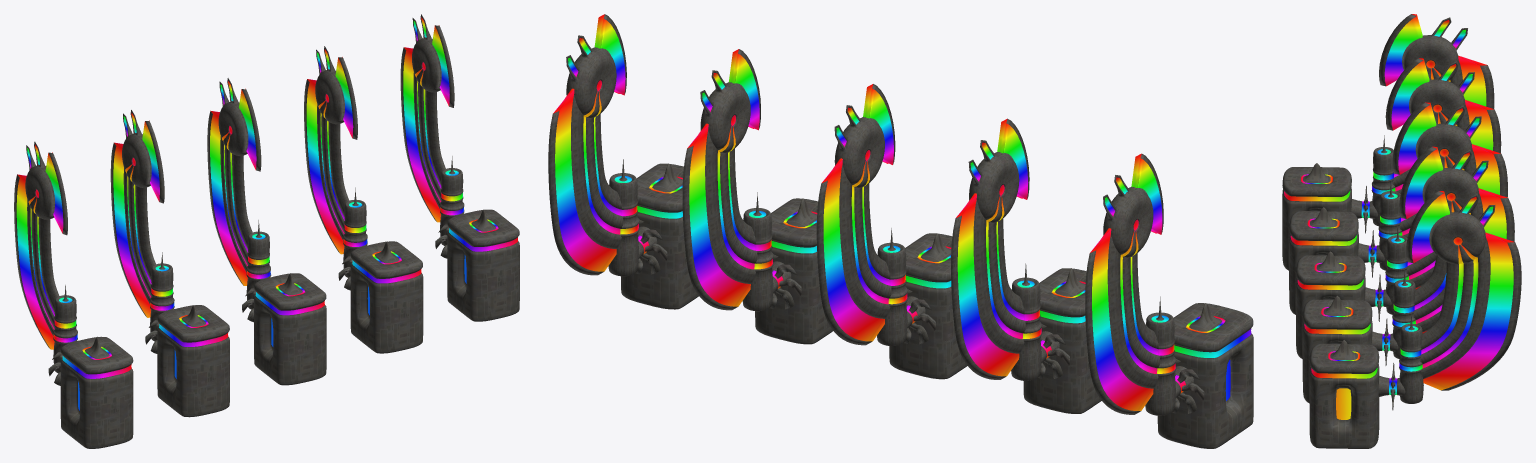
File: xenosands-SolarFins.glb
3 renders of one model, left to right at view 1: azimuth 30°, elevation 25°; view 2: azimuth 150°, elevation 25°; view 3: azimuth 270°, elevation 25°, orthographic. The views are drawn at different scales.
Visible parts, largest first — view 1: Base; view 2: Base; view 3: Base.
Boxes of the visible parts, box(x1,y1,x2,y2) form: Base: box(14, 14, 519, 448); Base: box(548, 14, 1253, 448); Base: box(1282, 14, 1521, 448).
Bounding box in the file's own units: 8.61 × 4.87 × 3.93.
2 materials, 2 textured.
